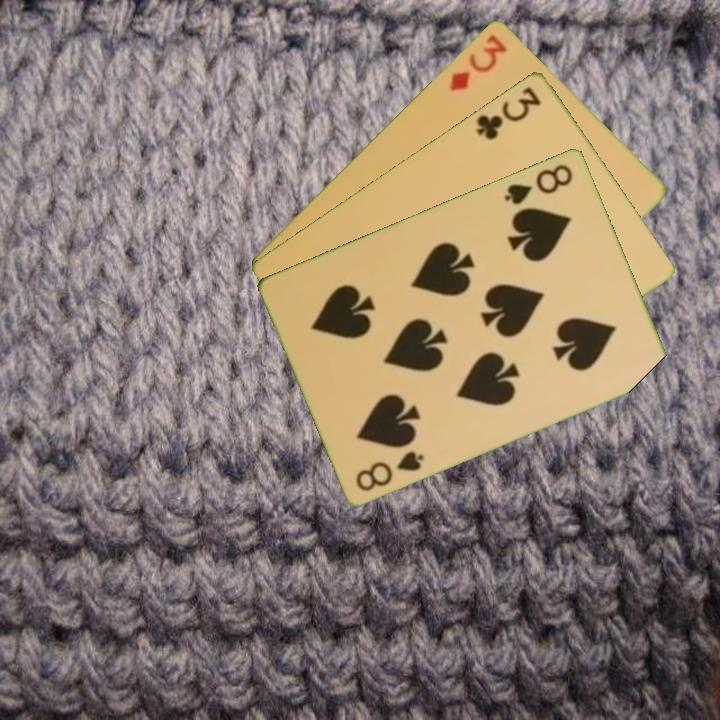3c: (473, 82, 544, 143)
3d: (446, 30, 510, 94)
8s: (352, 446, 427, 494), (500, 160, 576, 207)
